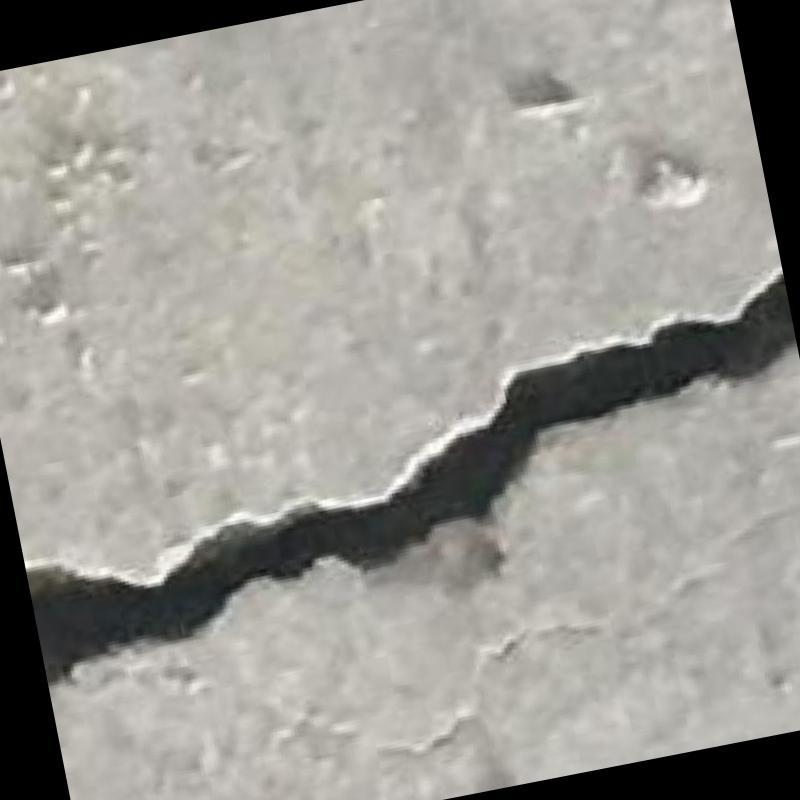pothole: (25, 271, 795, 684)
